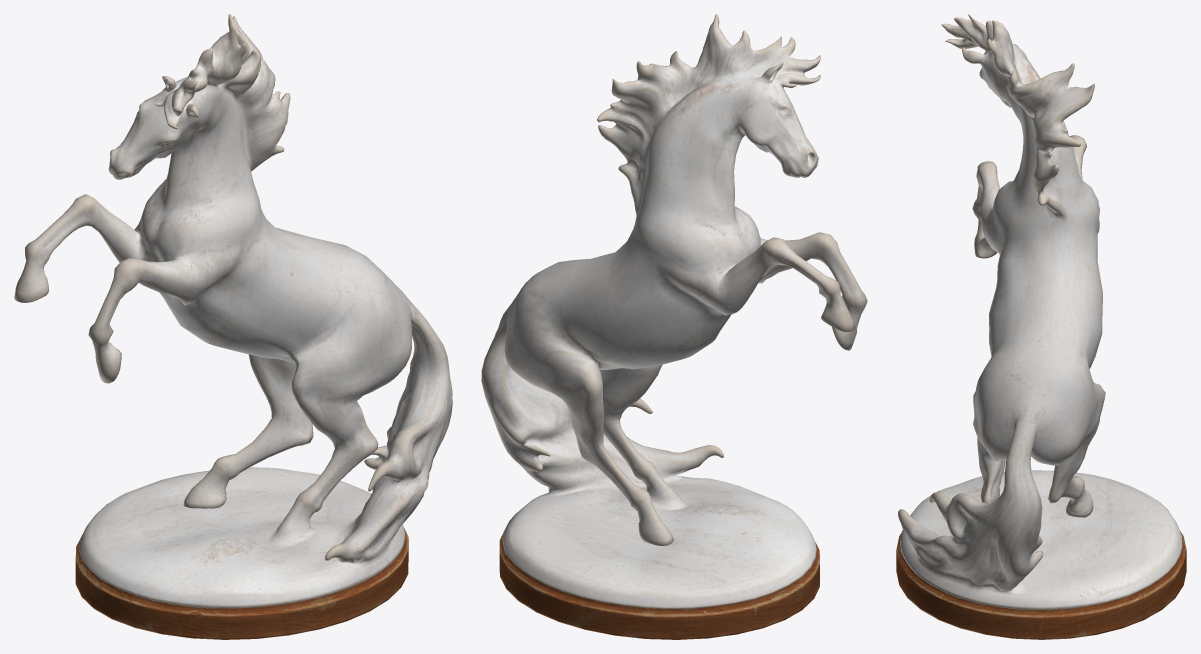
Rendered from horse_statue_01_1k.gltf.
3 renders of one model, left to right at view 1: azimuth 30°, elevation 25°; view 2: azimuth 150°, elevation 25°; view 3: azimuth 270°, elevation 25°, orthographic. The views are drawn at different scales.
Parts seen in each view (by area): view 1: horse_statue_01; view 2: horse_statue_01; view 3: horse_statue_01.
Part boxes in pixels (left/top/right/bottom): horse_statue_01: left=14, top=14, right=452, bottom=639; horse_statue_01: left=481, top=14, right=867, bottom=639; horse_statue_01: left=896, top=14, right=1186, bottom=639.
Size of the model in its own units: 0.1638 by 0.22 by 0.1078.
2 materials, 2 textured.
